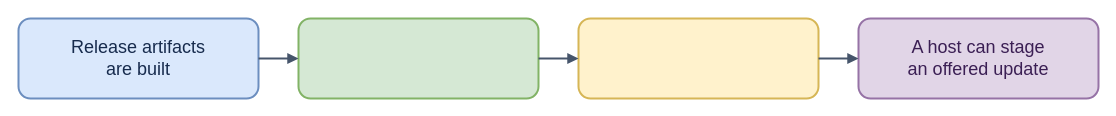
The diagram is 1116 pixels wide and 116 high, and some of its shapes have lost their labels. The shapes that lost their labels are listed below. From the top down, each one's box as (x1, y1, x2, y2) in pixels, then its label:
(297, 17, 539, 99): Reviewed stream metadata is published
(577, 17, 819, 99): Update routes describe eligible transitions
